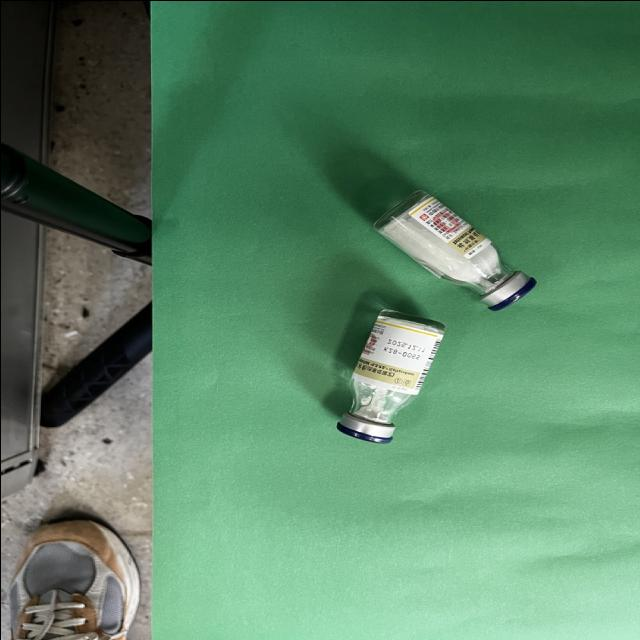Vials: (373, 190, 534, 310), (336, 308, 444, 442)
